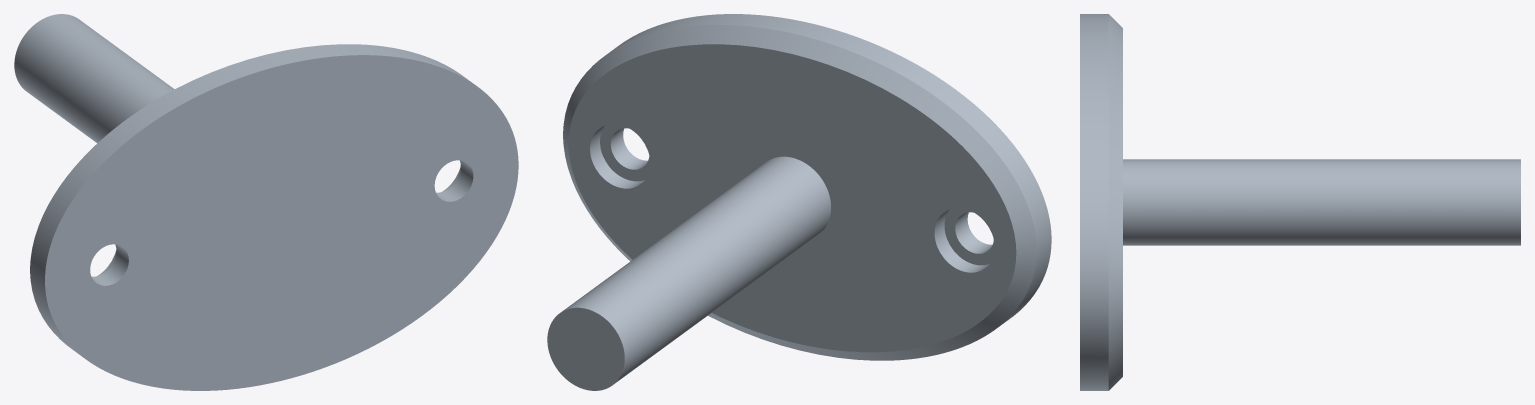
The model's file is washer-a-9.glb.
3 renders of one model, left to right at view 1: azimuth 30°, elevation 25°; view 2: azimuth 150°, elevation 25°; view 3: azimuth 270°, elevation 25°, orthographic. The views are drawn at different scales.
Parts seen in each view (by area): view 1: Bracket; view 2: Bracket; view 3: Bracket.
Boxes of the visible parts, bbox=[...] form: Bracket: bbox=[14, 14, 518, 390]; Bracket: bbox=[547, 14, 1051, 390]; Bracket: bbox=[1080, 14, 1520, 390].
Size of the model in its own units: 0.055 by 0.035 by 0.046.
